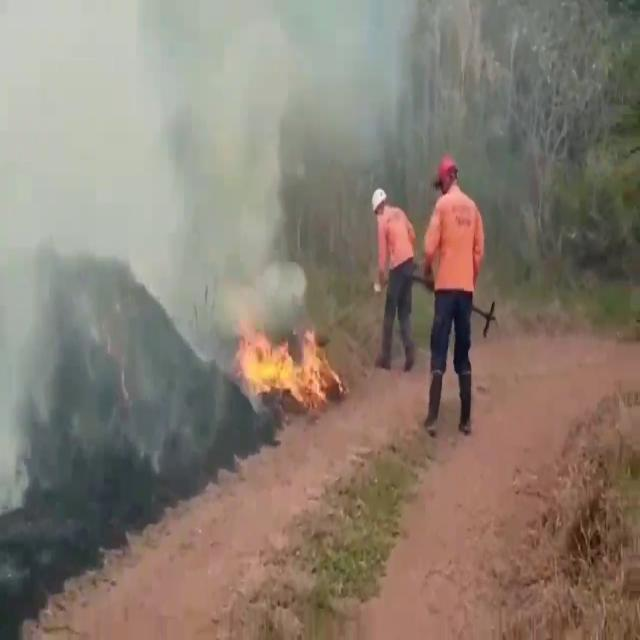Fire: (232, 312, 337, 410)
Smoke: (0, 1, 212, 546), (150, 0, 425, 315)
